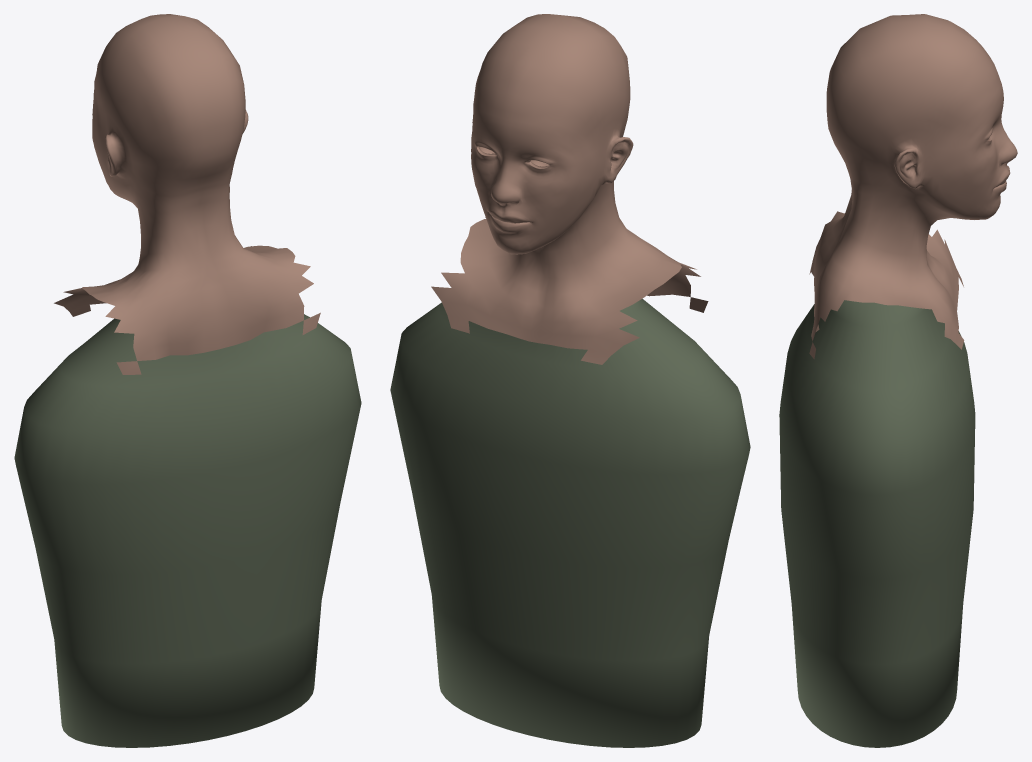
Rendered from player-upper-shadow.glb.
3 renders of one model, left to right at view 1: azimuth 30°, elevation 25°; view 2: azimuth 150°, elevation 25°; view 3: azimuth 270°, elevation 25°, orthographic. The views are drawn at different scales.
Parts seen in each view (by area): view 1: player-upper-shadow.001, player-upper-shadow; view 2: player-upper-shadow.001, player-upper-shadow; view 3: player-upper-shadow.001, player-upper-shadow.
Part boxes in pixels (x1=…): player-upper-shadow.001: x1=14, y1=314, x2=361, y2=747; player-upper-shadow: x1=54, y1=14, x2=320, y2=374; player-upper-shadow.001: x1=390, y1=298, x2=750, y2=747; player-upper-shadow: x1=431, y1=14, x2=708, y2=364; player-upper-shadow.001: x1=779, y1=300, x2=975, y2=747; player-upper-shadow: x1=809, y1=14, x2=1017, y2=359.
Bounding box in the file's own units: 0.442 × 0.85 × 0.2746.
